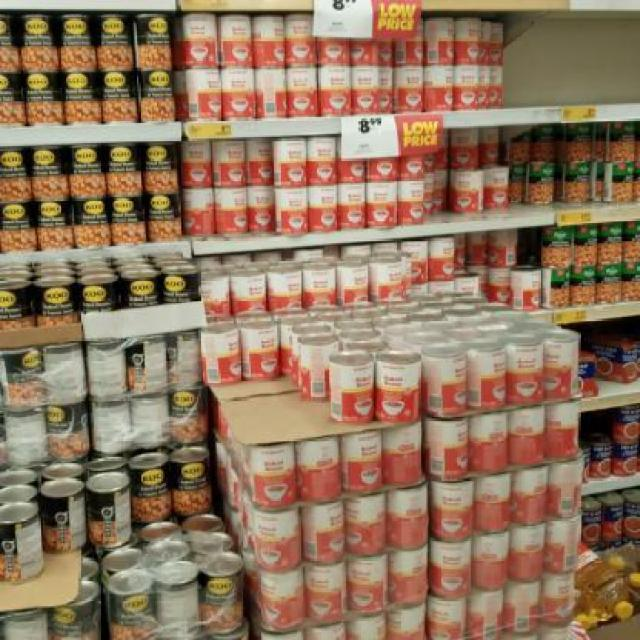Beans: (377, 361, 421, 397), (21, 72, 65, 106), (173, 458, 217, 492), (181, 15, 221, 49), (18, 18, 60, 50), (224, 65, 260, 102), (98, 11, 134, 47), (102, 68, 140, 102), (60, 70, 100, 101), (66, 149, 106, 180), (82, 286, 122, 317), (33, 286, 79, 312), (362, 179, 400, 210), (166, 275, 202, 307), (141, 142, 178, 173), (112, 196, 149, 227), (268, 272, 304, 303), (60, 18, 96, 49), (139, 67, 177, 96), (135, 14, 167, 48), (0, 288, 32, 322), (282, 70, 319, 99), (105, 146, 139, 177), (233, 272, 267, 303), (218, 17, 254, 46), (30, 147, 62, 178), (335, 365, 373, 391), (146, 192, 180, 220), (393, 64, 425, 93), (139, 469, 171, 498), (244, 326, 282, 350), (307, 270, 338, 299), (126, 279, 157, 308), (457, 62, 485, 94), (186, 135, 212, 169), (324, 67, 352, 98), (217, 142, 248, 170), (0, 68, 26, 100), (0, 203, 34, 227), (432, 240, 460, 269), (453, 170, 484, 196), (281, 143, 312, 167), (78, 202, 109, 226), (37, 203, 68, 227), (542, 225, 573, 249), (219, 190, 250, 213), (606, 120, 638, 142), (0, 155, 29, 179), (563, 158, 594, 180), (195, 72, 223, 96), (603, 165, 639, 183), (527, 163, 555, 186), (565, 121, 597, 141), (312, 189, 338, 213), (280, 190, 306, 214), (575, 225, 599, 251), (290, 20, 316, 43), (519, 274, 543, 298), (599, 222, 623, 244), (597, 266, 626, 282), (576, 266, 602, 283), (548, 266, 570, 286)
